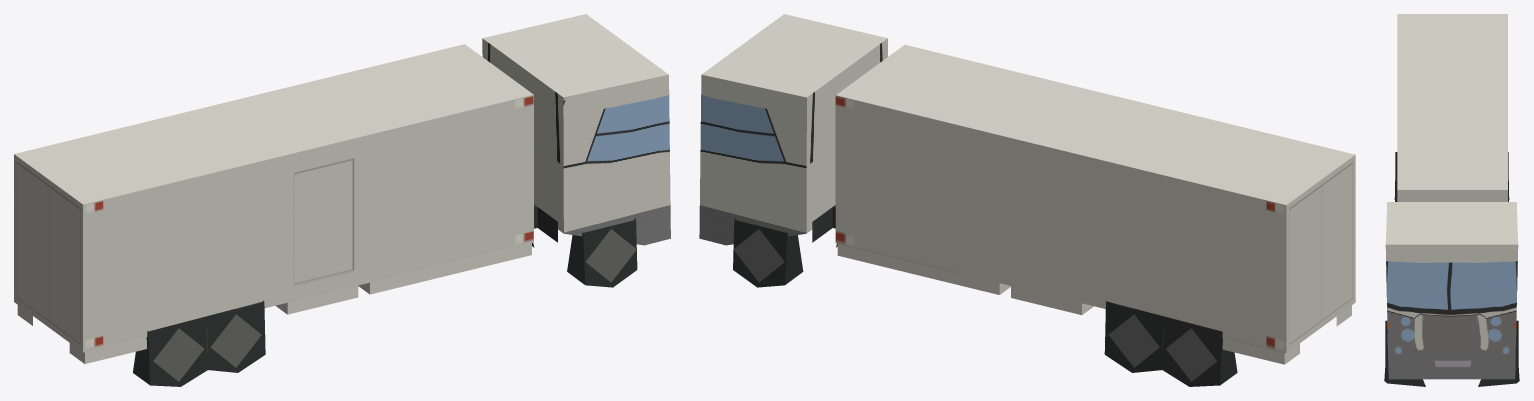
File: CaminhaoLOD1.fbx
3 views of the same model, side by side, from view 1: azimuth 30°, elevation 25°; view 2: azimuth 150°, elevation 25°; view 3: azimuth 270°, elevation 25° (orthographic). The views are drawn at different scales.
Visible parts, largest first — view 1: caminhaoLOD1; view 2: caminhaoLOD1; view 3: caminhaoLOD1.
Part boxes in pixels (x1=…): caminhaoLOD1: x1=14, y1=14, x2=670, y2=386; caminhaoLOD1: x1=699, y1=14, x2=1355, y2=386; caminhaoLOD1: x1=1384, y1=14, x2=1519, y2=386.
Bounding box in the file's own units: 1147 × 384 × 290.
Materials: 1 (1 with a texture image).
